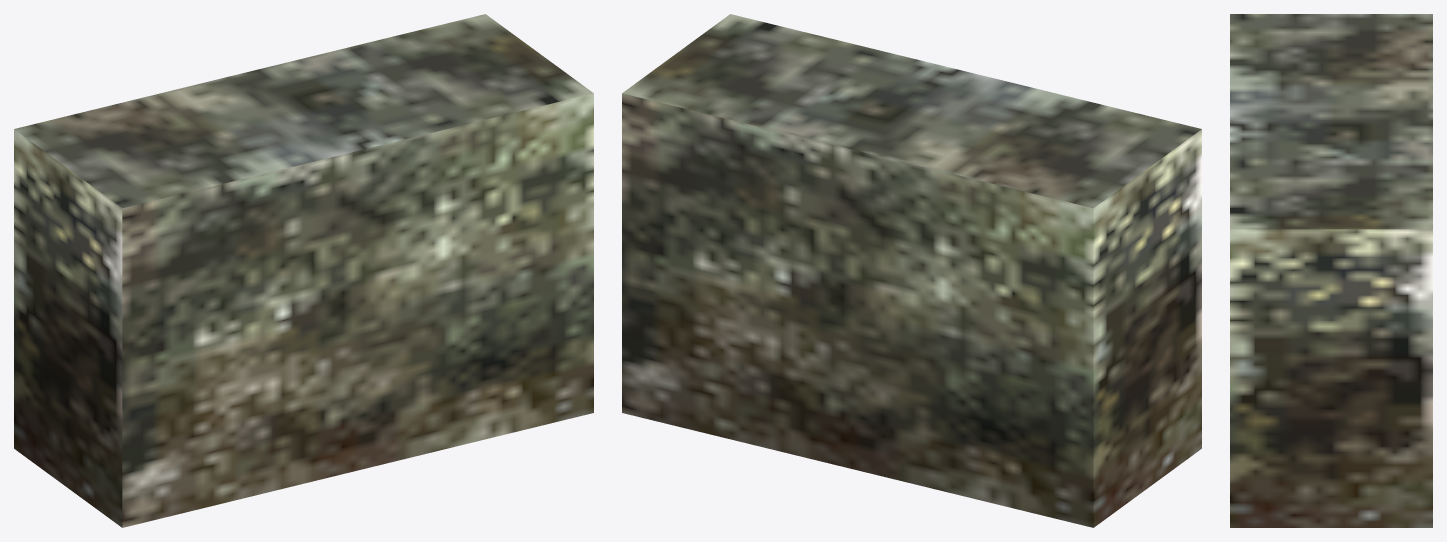
Rendered from OZ_06_mi_relic05E.glb.
3 renders of one model, left to right at view 1: azimuth 30°, elevation 25°; view 2: azimuth 150°, elevation 25°; view 3: azimuth 270°, elevation 25°, orthographic. The views are drawn at different scales.
Parts seen in each view (by area): view 1: OM_06_mi_relic05E; view 2: OM_06_mi_relic05E; view 3: OM_06_mi_relic05E.
Part boxes in pixels (x1=…): OM_06_mi_relic05E: x1=14, y1=14, x2=593, y2=527; OM_06_mi_relic05E: x1=622, y1=14, x2=1201, y2=527; OM_06_mi_relic05E: x1=1230, y1=14, x2=1432, y2=527.
Size of the model in its own units: 1.32 by 0.8579 by 0.5274.
1 material, 1 textured.
